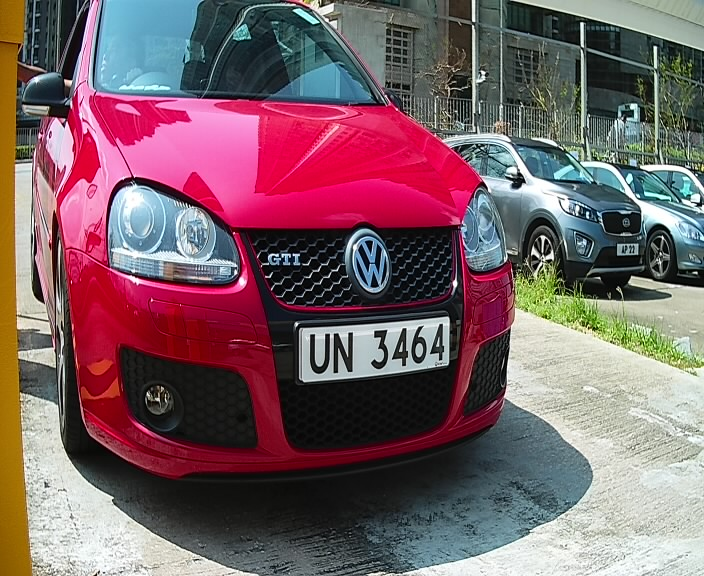License Plate: (289, 311, 461, 392)
